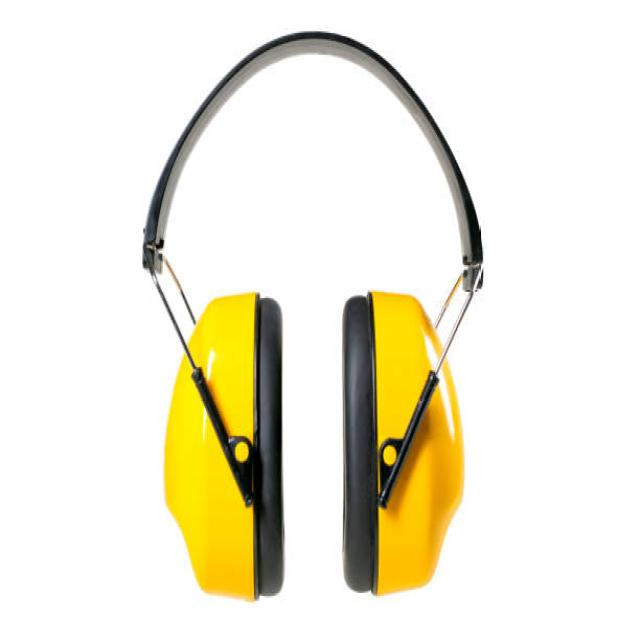Ear-protection: (131, 21, 496, 617)
